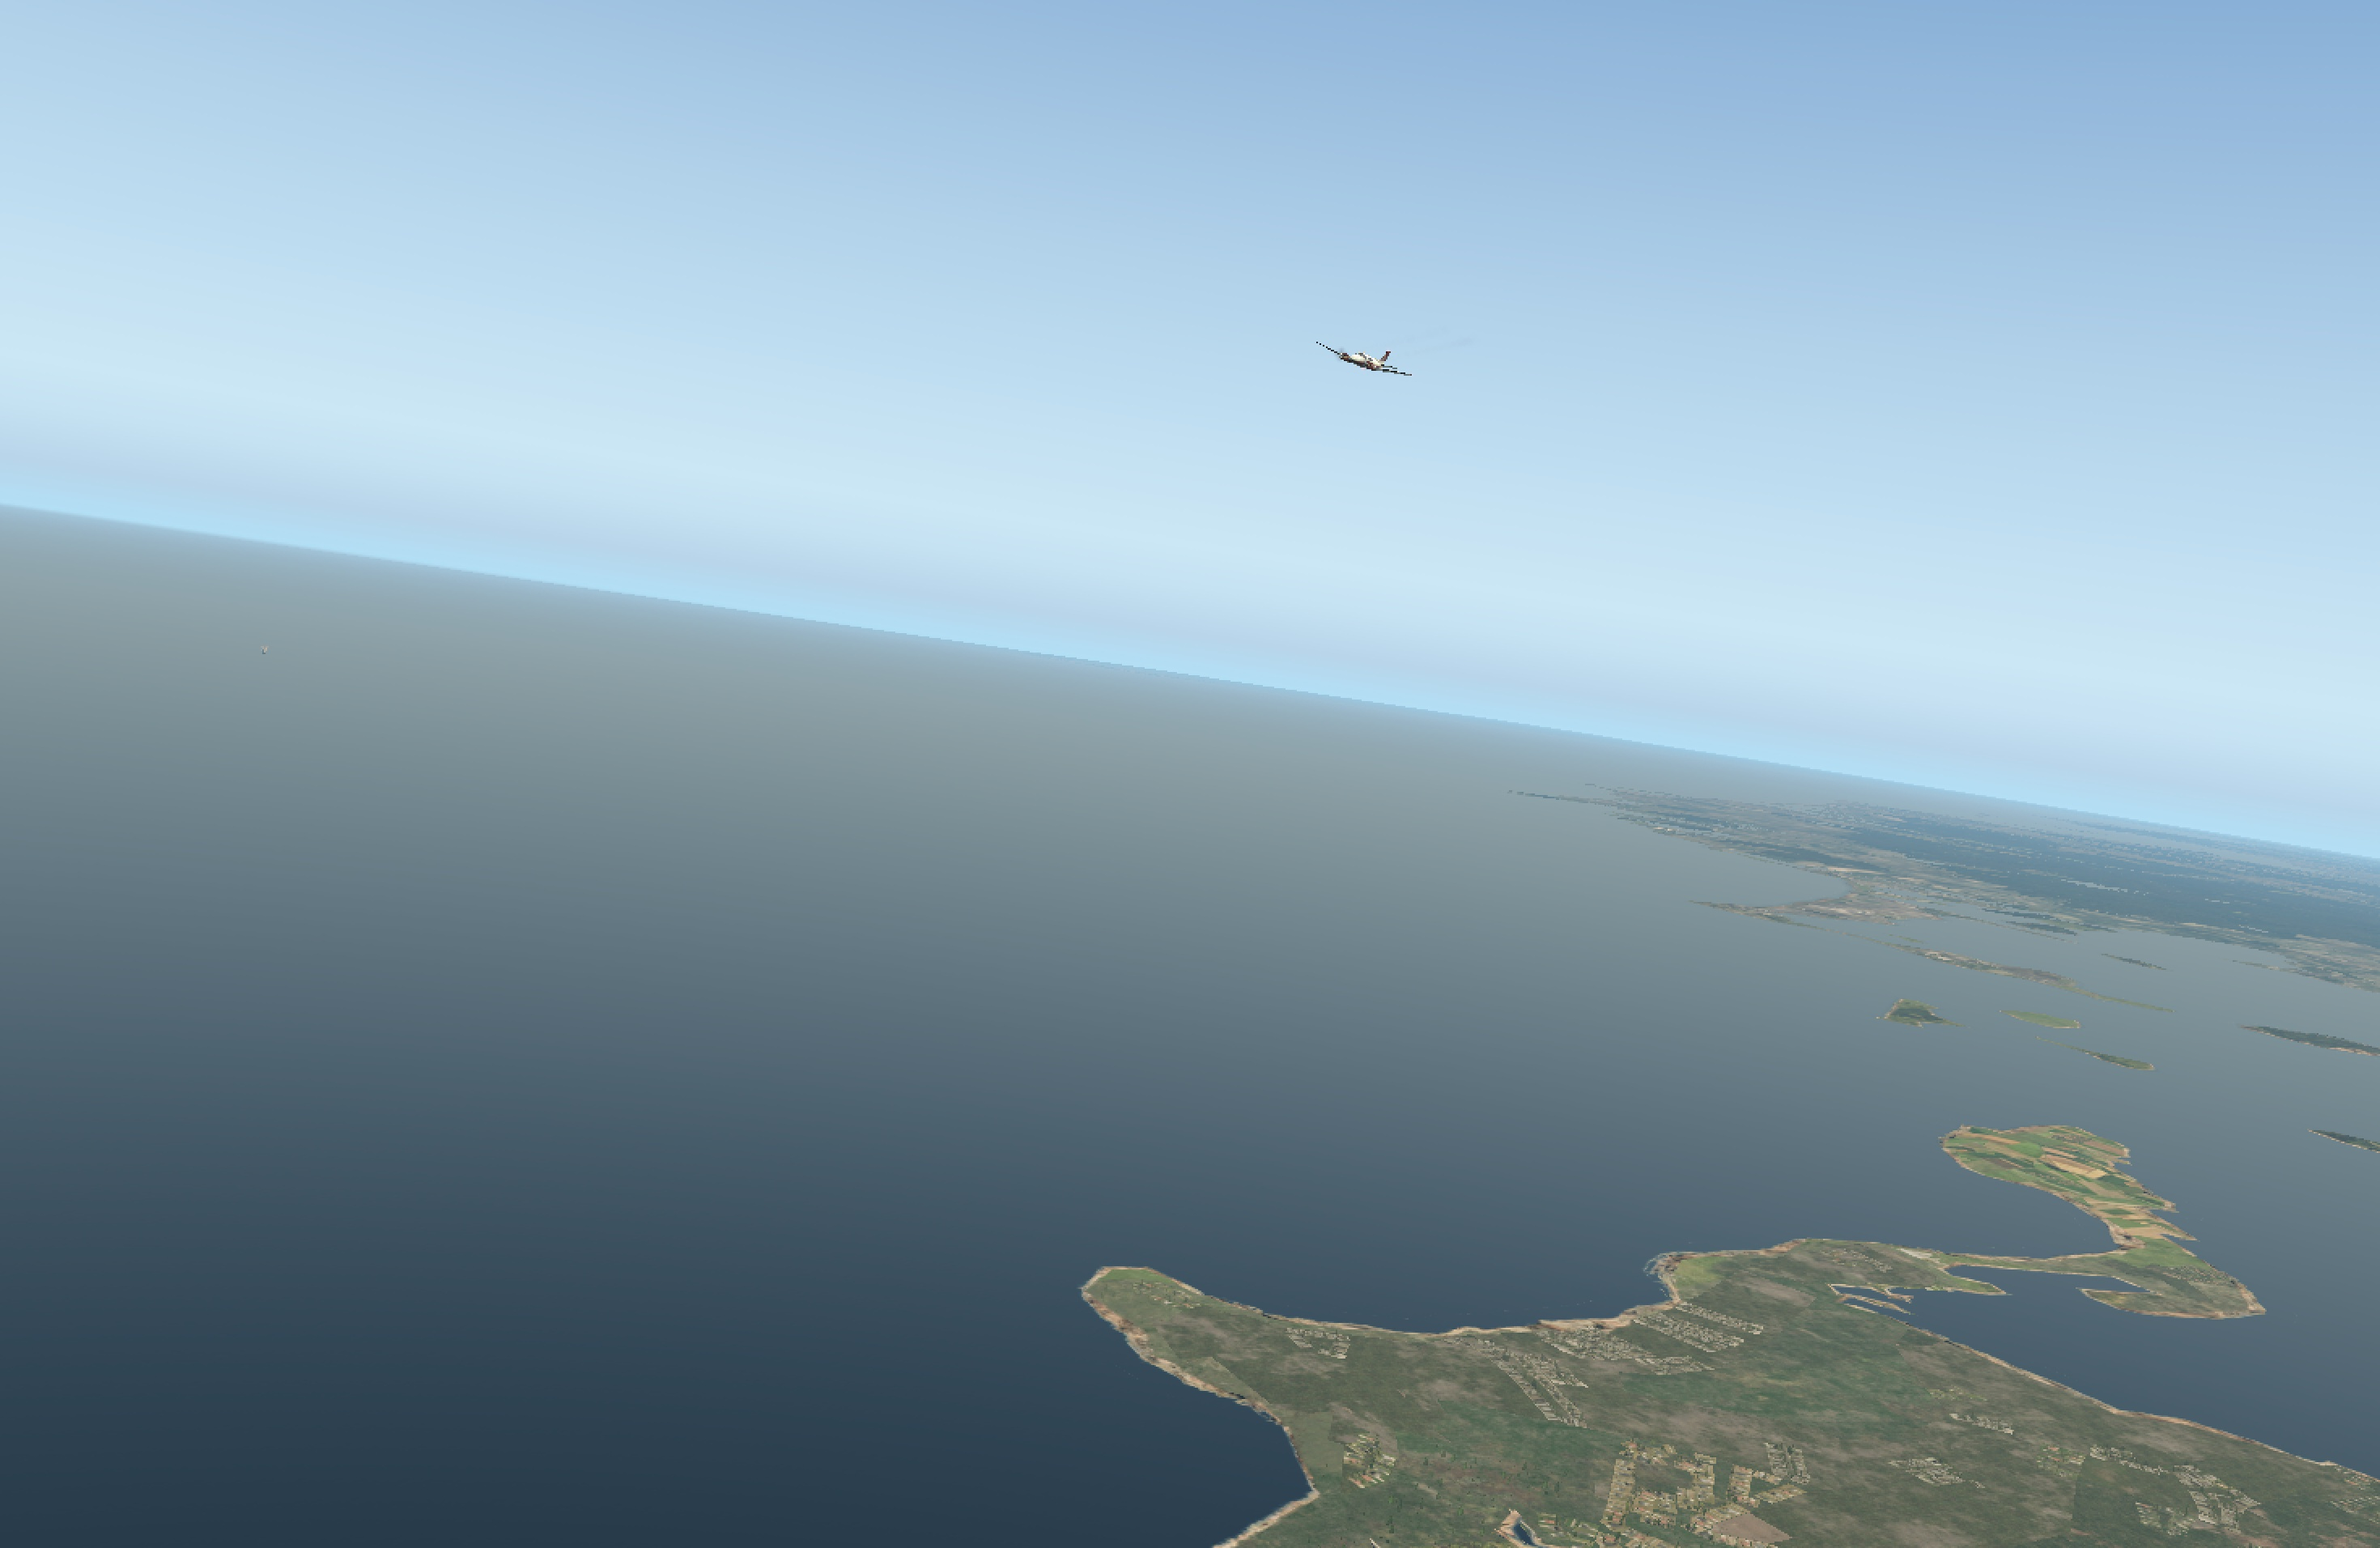aircraft: (1303, 344, 1417, 387)
